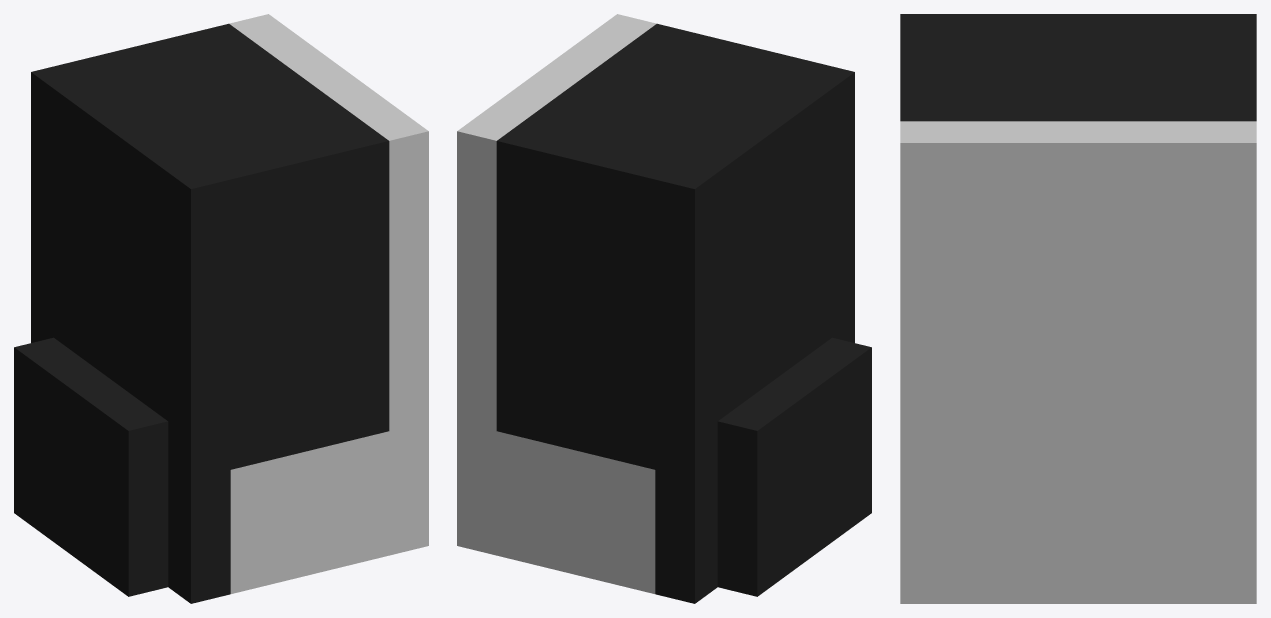
Rendered from Animals-5.obj.
The picture shows the model from 3 angles, left to right: view 1: azimuth 30°, elevation 25°; view 2: azimuth 150°, elevation 25°; view 3: azimuth 270°, elevation 25°; orthographic projection. The views are drawn at different scales.
Size of the model in its own units: 0.7 by 1 by 0.7.
1 material, 1 textured.
